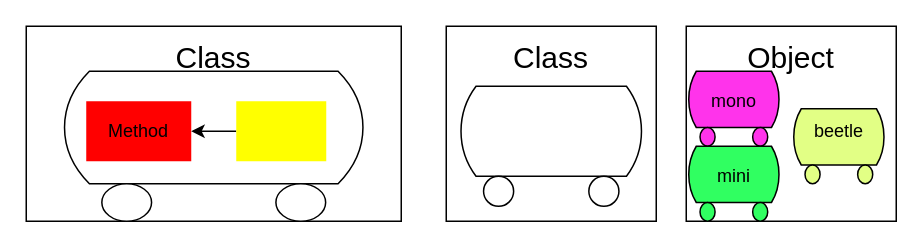
The diagram is 923 pixels wide and 248 high, and some of its shapes have lost their labels. The centre of each missing label's shape, as x and y in pixels:
Attributes: the point at 281,130
Car: the point at 550,145
